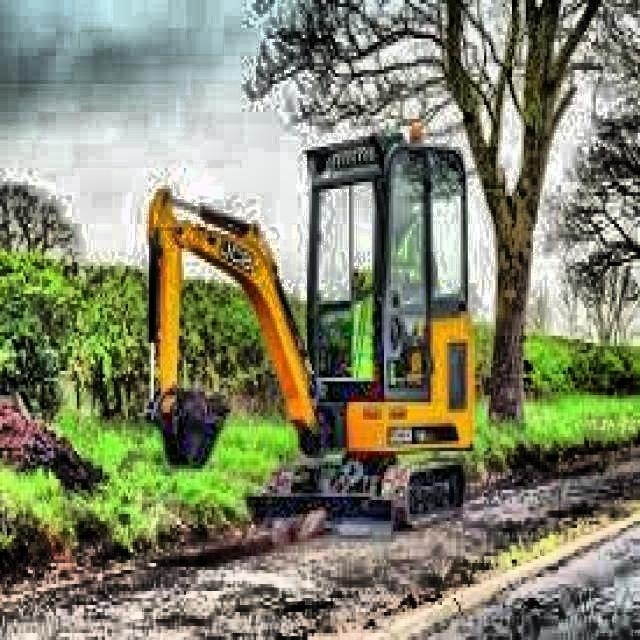bull_dozer/loader/grader: (144, 123, 481, 534)
person: (354, 178, 438, 387)
